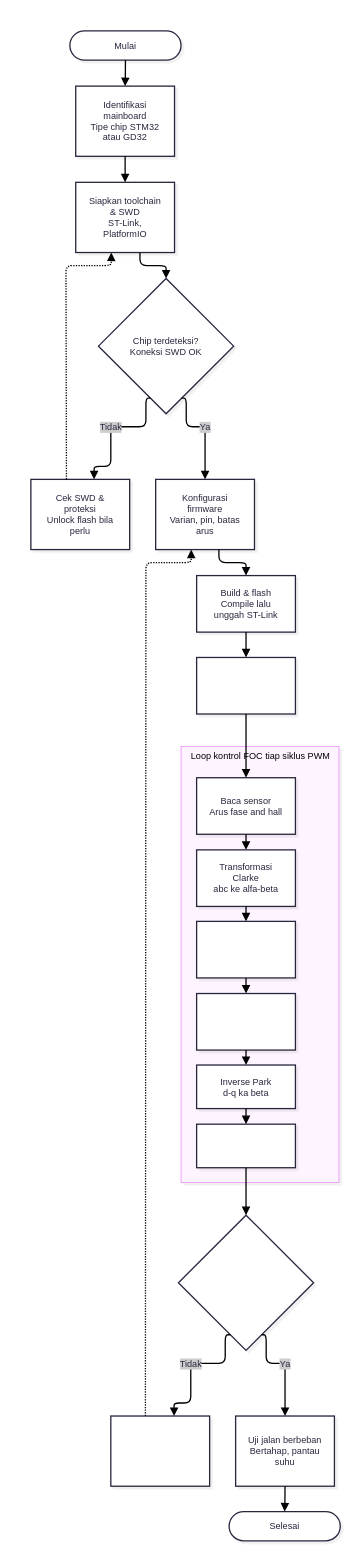
This 354x1555 diagram has some shape labels left out. The shapes that lost their labels are listed below. From the top down, each one's centre as x and y in pixels, then its label:
pixel 247 686: Kalibrasi sensor Offset arus, urutan hall
pixel 247 950: Transformasi Park Alfa-beta ke d-q
pixel 247 1023: Regulator PI Arus PI, Id and iq
pixel 247 1147: Modulasi SVPWM Duty tiga fase
pixel 247 1283: Tes tanpa beban OK? Halus, tanpa fault
pixel 161 1452: Tuning parameter Gain PI, batas arus
